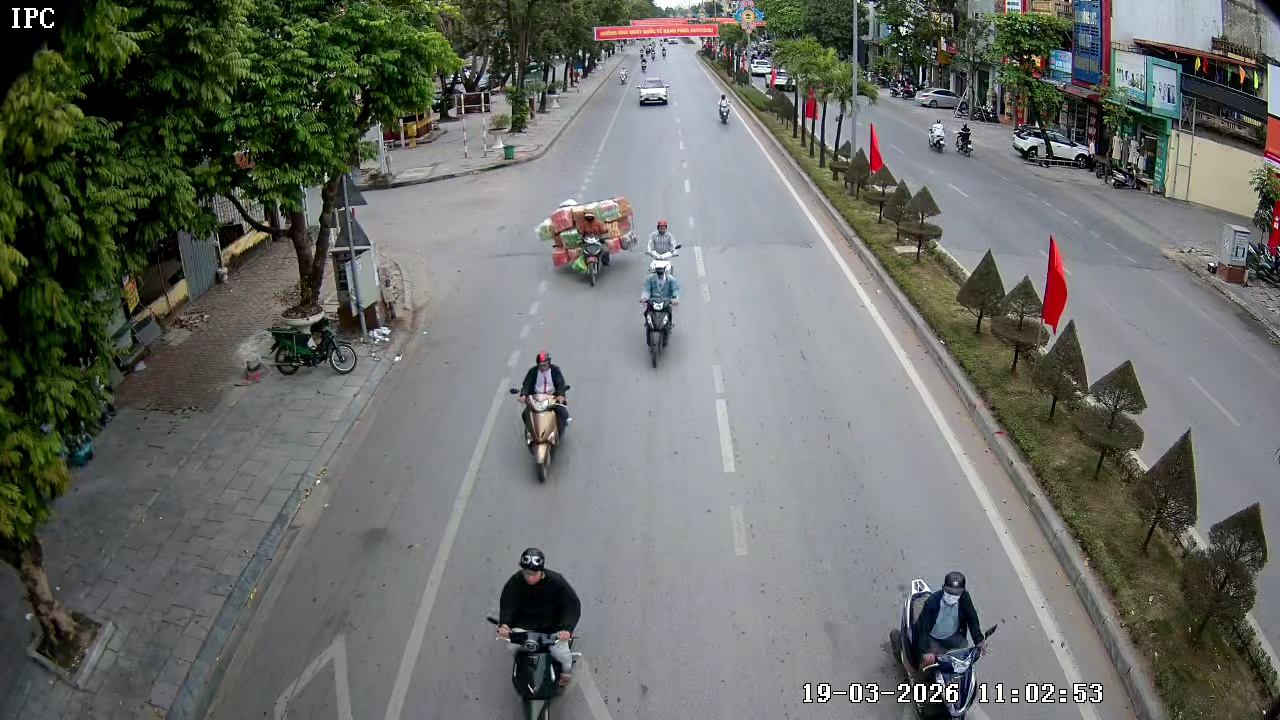car: (637, 75, 675, 108)
exception: (643, 216, 681, 272)
motorbike: (882, 553, 1020, 717), (486, 547, 584, 719), (506, 350, 575, 483), (265, 313, 375, 385), (638, 259, 681, 369), (575, 208, 614, 293), (712, 93, 738, 124), (618, 65, 631, 87)
